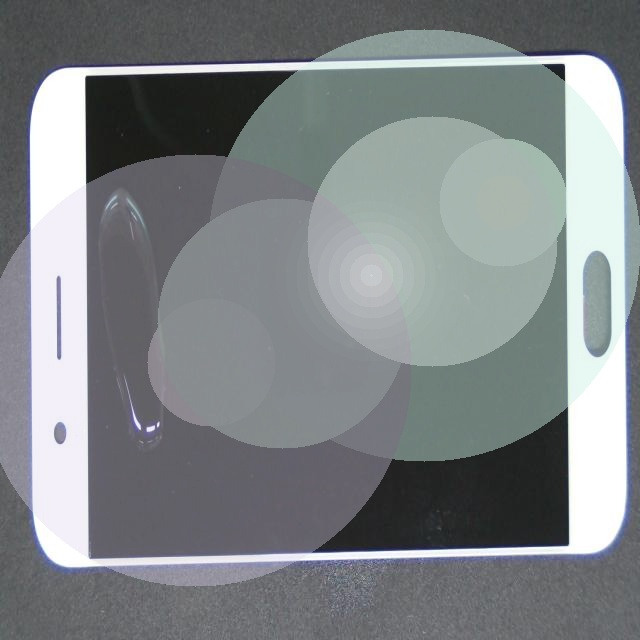oil: (79, 269, 241, 620)
